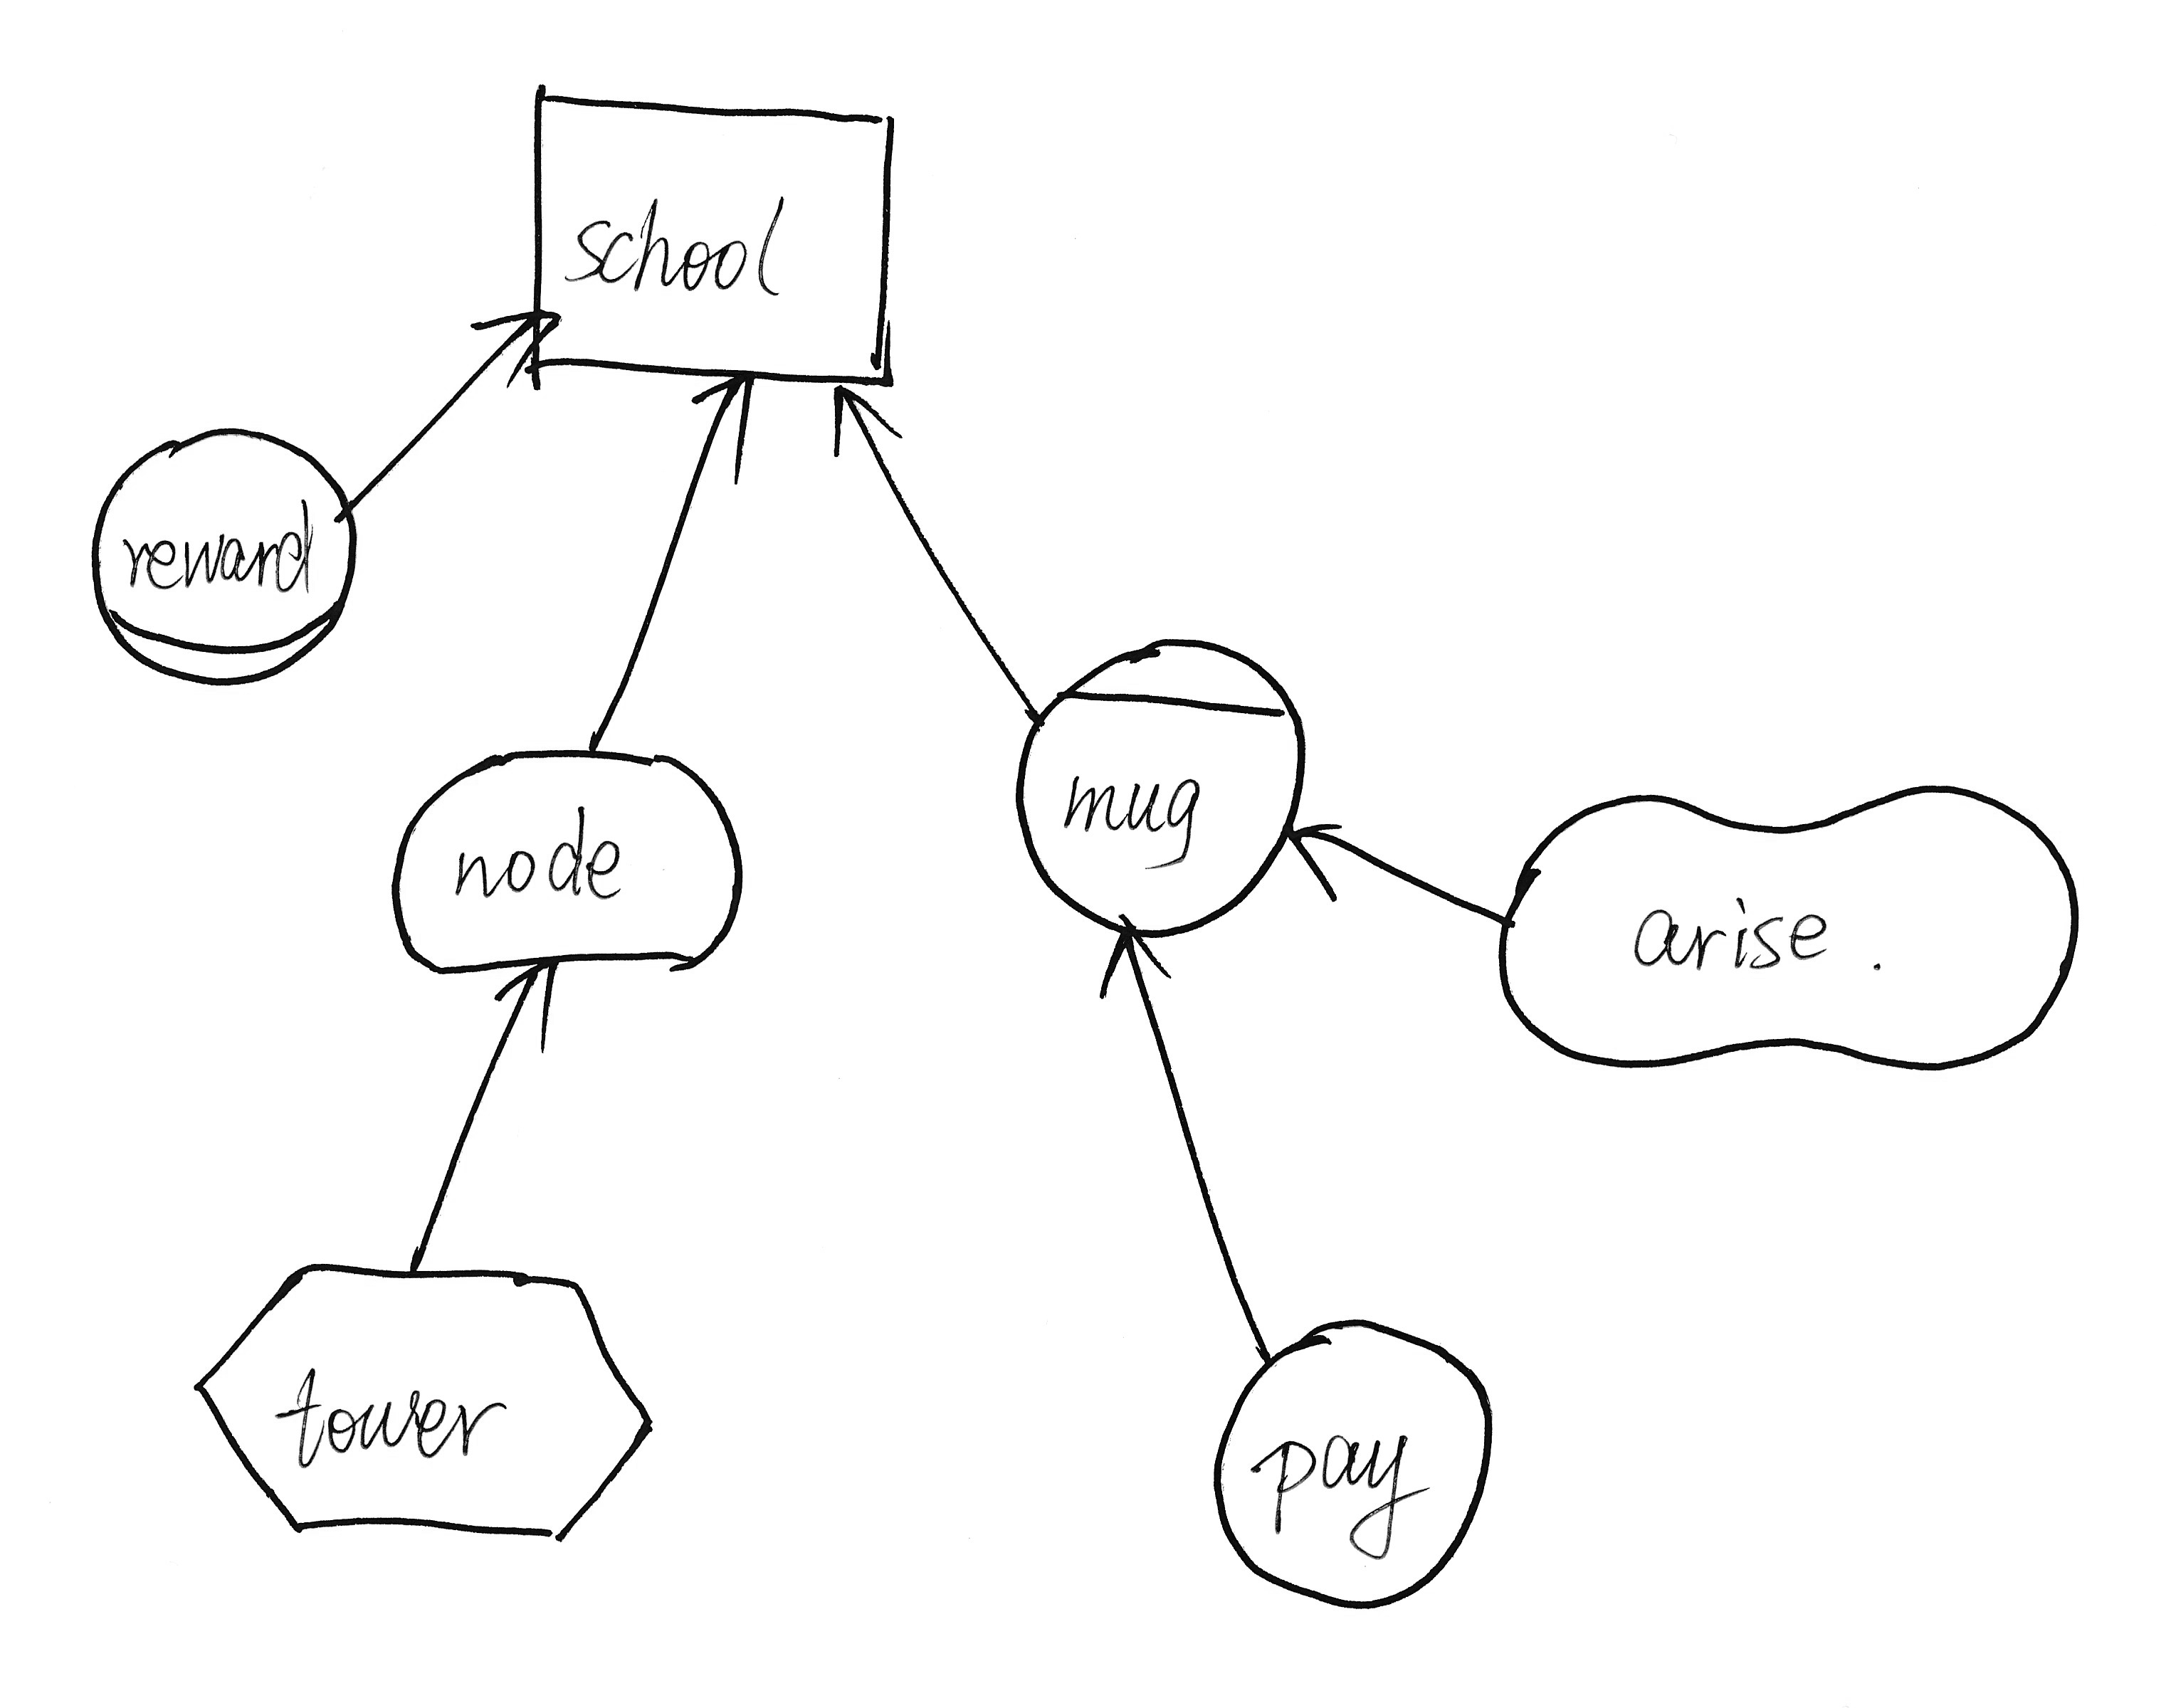actor: (1189, 1297, 1512, 1625)
agent: (997, 615, 1323, 952)
arrow: (675, 365, 779, 501), (456, 293, 571, 414), (483, 939, 583, 1068), (1084, 910, 1197, 1014), (804, 379, 922, 474), (1278, 804, 1362, 915)
goal: (372, 724, 765, 991)
quality: (1477, 760, 2093, 1093)
resource: (509, 58, 923, 407)
role: (76, 412, 384, 702)
task: (178, 1241, 668, 1569)
